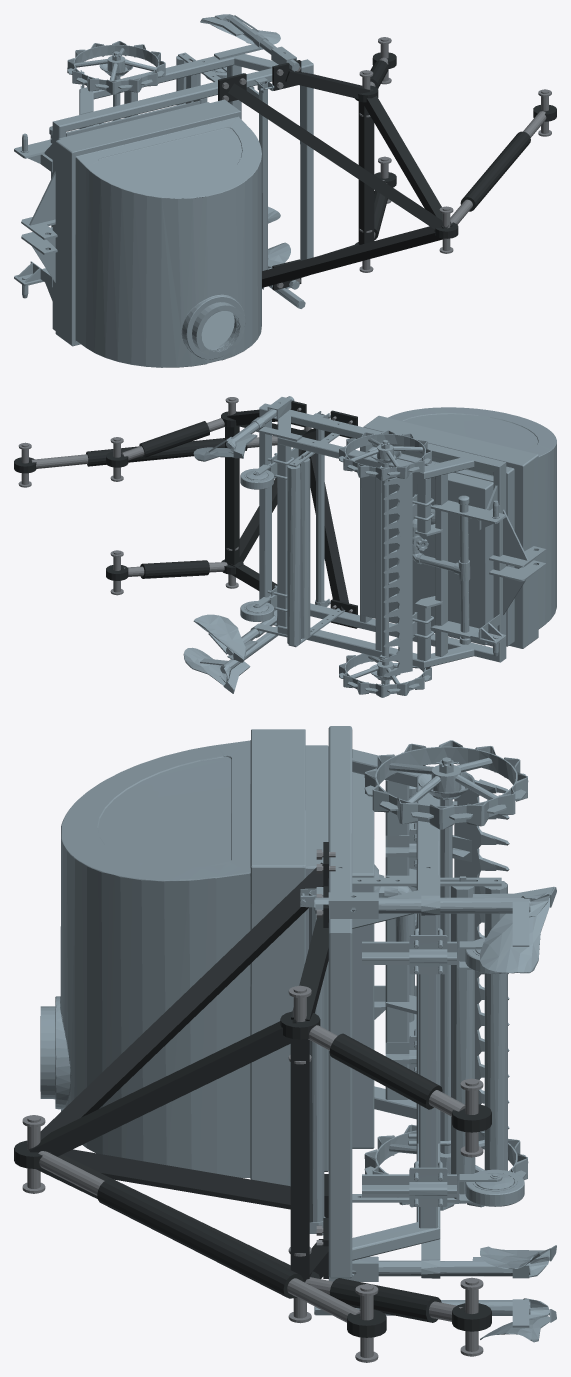
Rendered from implement_mulch_planter_visual.obj.
The picture shows the model from 3 angles, top to bottom: view 1: azimuth 30°, elevation 25°; view 2: azimuth 150°, elevation 25°; view 3: azimuth 270°, elevation 25°; orthographic projection. The views are drawn at different scales.
Visible parts, largest first — view 1: solid_82, hitch_receiver_member_5, hitch_receiver_member_6, solid_131, solid_21, solid_8, hitch_receiver_member_1, hitch_receiver_member_0, hitch_top_link_sleeve, solid_24, solid_165, hitch_receiver_member_3 (+10 smaller); view 2: solid_82, solid_47, solid_131, solid_74, solid_21, solid_4, solid_29, solid_77, solid_110, solid_8, hitch_receiver_member_0, solid_7 (+34 smaller); view 3: solid_82, hitch_receiver_member_5, solid_131, solid_8, hitch_receiver_member_1, hitch_top_link_sleeve, solid_74, hitch_receiver_member_6, solid_77, hitch_receiver_member_0, solid_21, solid_29 (+32 smaller).
Part boxes in pixels (x1,y1,x2,y2): solid_82: [55, 99, 261, 367]; hitch_receiver_member_5: [228, 83, 448, 229]; hitch_receiver_member_6: [262, 226, 442, 287]; solid_131: [67, 41, 165, 94]; solid_21: [53, 59, 313, 131]; solid_8: [300, 65, 313, 260]; hitch_receiver_member_1: [364, 89, 452, 228]; hitch_receiver_member_0: [358, 101, 374, 244]; hitch_top_link_sleeve: [460, 131, 530, 211]; solid_24: [81, 56, 234, 99]; solid_165: [259, 81, 267, 270]; hitch_receiver_member_3: [285, 70, 369, 98]; solid_82: [361, 407, 556, 648]; solid_47: [388, 473, 412, 673]; solid_131: [339, 430, 431, 480]; solid_74: [287, 464, 300, 645]; solid_21: [259, 403, 505, 471]; solid_4: [435, 474, 447, 656]; solid_29: [277, 443, 291, 626]; solid_77: [300, 458, 310, 638]; solid_110: [339, 653, 431, 697]; solid_8: [259, 409, 271, 599]; hitch_receiver_member_0: [225, 426, 239, 565]; solid_7: [493, 462, 506, 662]; solid_82: [40, 729, 378, 1186]; hitch_receiver_member_5: [27, 862, 323, 1146]; solid_131: [364, 740, 527, 829]; solid_8: [328, 933, 352, 1277]; hitch_receiver_member_1: [29, 1019, 296, 1156]; hitch_top_link_sleeve: [97, 1179, 303, 1298]; solid_74: [484, 881, 507, 1170]; hitch_receiver_member_6: [62, 1149, 290, 1209]; solid_77: [451, 886, 475, 1199]; hitch_receiver_member_0: [290, 1038, 309, 1281]; solid_21: [328, 726, 352, 933]; solid_29: [419, 913, 437, 1228].
Bounding box in the file's own units: 2.17 × 1.06 × 1.14.
